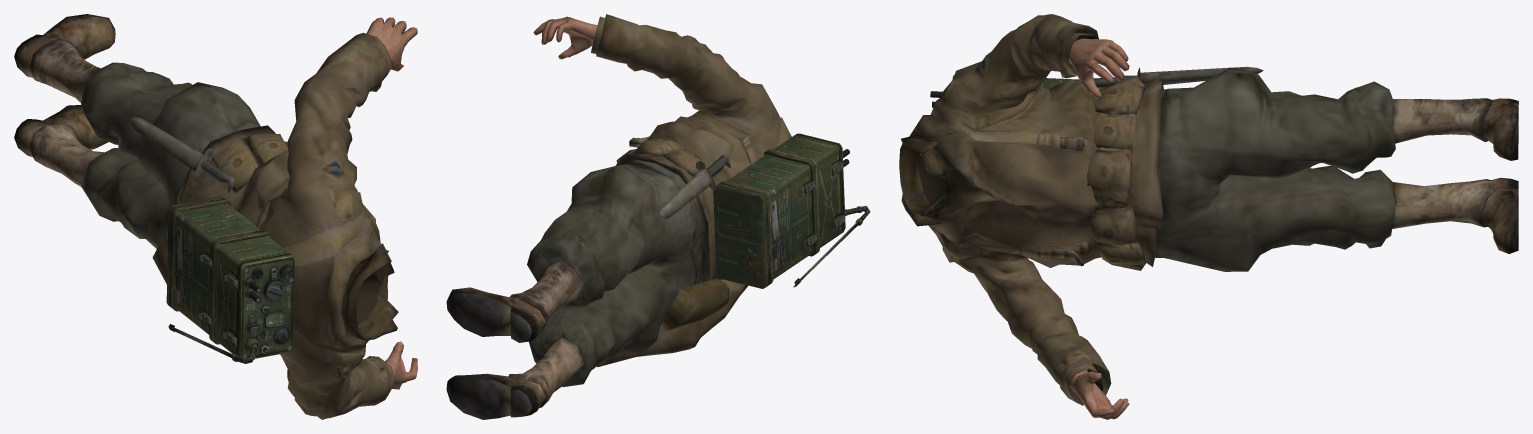
File: character_us_ranger_radio.glb
3 renders of one model, left to right at view 1: azimuth 30°, elevation 25°; view 2: azimuth 150°, elevation 25°; view 3: azimuth 270°, elevation 25°, orthographic. The views are drawn at different scales.
Bounding box in the file's own units: 31.57 × 42.07 × 62.81.
2 materials, 2 textured.
